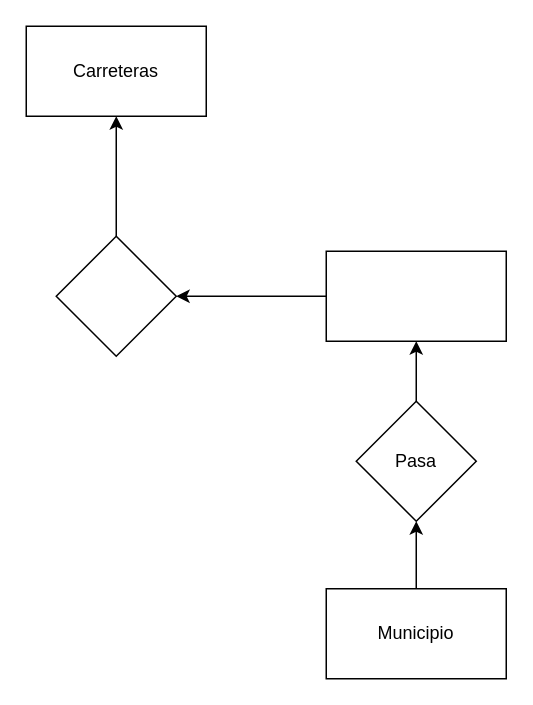
This 533x705 diagram has some shape labels left out. The centre of each missing label's shape, as x and y in pixels:
"Pertenece" belongs at point (115, 295).
"Tramo" belongs at point (415, 295).
